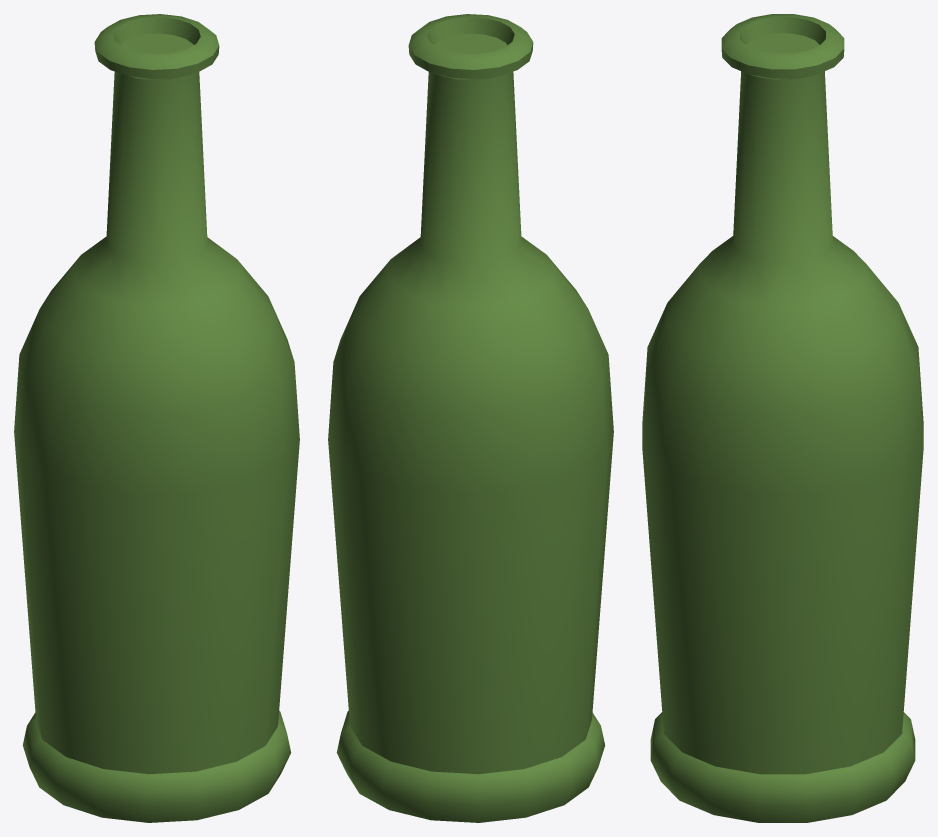
Rendered from Botella_02.001.fbx.
The picture shows the model from 3 angles, left to right: view 1: azimuth 30°, elevation 25°; view 2: azimuth 150°, elevation 25°; view 3: azimuth 270°, elevation 25°; orthographic projection.
Visible parts, largest first — view 1: Botella_02.001; view 2: Botella_02.001; view 3: Botella_02.001.
Part boxes in pixels (x1,y1,x2,y2): Botella_02.001: (14, 14, 299, 822); Botella_02.001: (328, 14, 613, 822); Botella_02.001: (642, 14, 923, 822).
Size of the model in its own units: 27.8 by 80.24 by 27.8.
